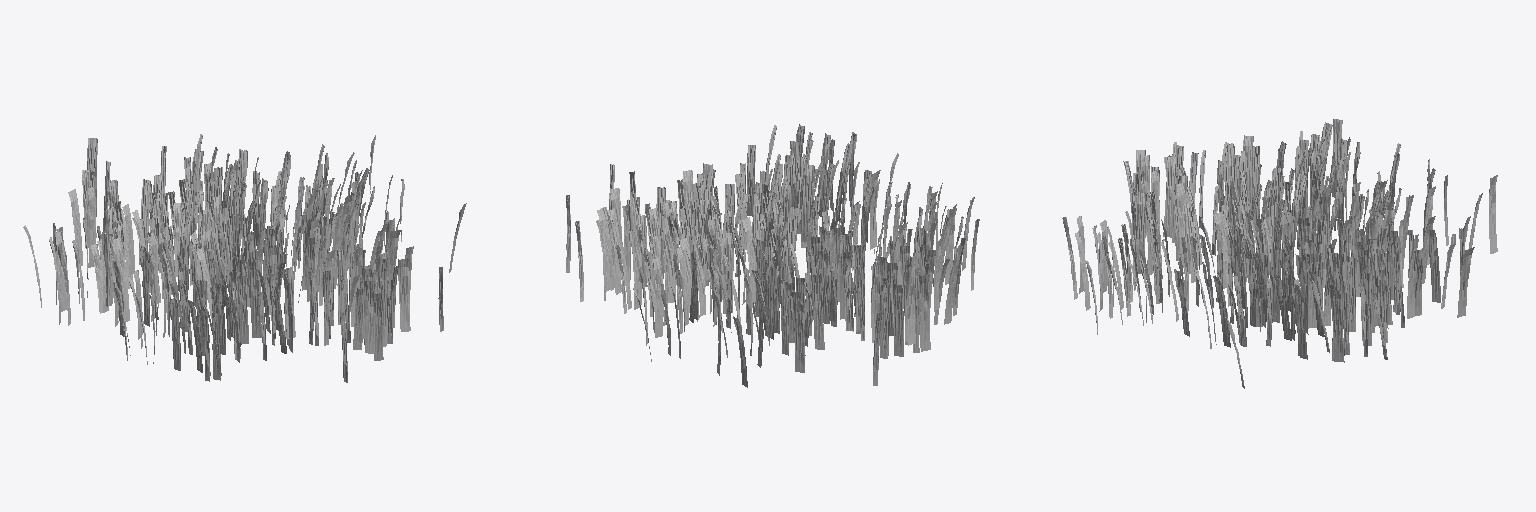
The model's file is uploads_files_2738257_grass.obj.
3 views of the same model, side by side, from view 1: azimuth 30°, elevation 25°; view 2: azimuth 150°, elevation 25°; view 3: azimuth 270°, elevation 25° (orthographic).
Parts seen in each view (by area): view 1: Layer_1.151, Layer_1.247, Layer_1.235, Layer_1.193, Layer_1.195, Layer_1.015, Layer_1.277; view 2: Layer_1.200, Layer_1.207, Layer_1.226, Layer_1.198, Layer_1.177, Layer_1.204, Layer_1.244, Layer_1.088, Layer_1.134, Layer_1.279, Layer_1.263; view 3: Layer_1.268, Layer_1.088, Layer_1.137, Layer_1.265, Layer_1.174, Layer_1.242, Layer_1.261, Layer_1.072, Layer_1.050.
Boxes of the visible parts, <box> form: Layer_1.151: <box>245,261,261,337</box>; Layer_1.247: <box>398,258,410,331</box>; Layer_1.235: <box>365,281,374,353</box>; Layer_1.193: <box>236,275,248,343</box>; Layer_1.195: <box>169,297,180,370</box>; Layer_1.015: <box>223,207,232,283</box>; Layer_1.277: <box>372,293,383,360</box>; Layer_1.200: <box>919,274,930,351</box>; Layer_1.207: <box>810,275,824,349</box>; Layer_1.226: <box>893,284,903,356</box>; Layer_1.198: <box>793,303,804,372</box>; Layer_1.177: <box>801,164,814,242</box>; Layer_1.204: <box>906,266,915,345</box>; Layer_1.244: <box>880,285,889,358</box>; Layer_1.088: <box>653,257,663,337</box>; Layer_1.134: <box>663,217,675,302</box>; Layer_1.279: <box>780,280,788,355</box>; Layer_1.263: <box>747,145,755,216</box>; Layer_1.268: <box>1330,291,1344,362</box>; Layer_1.088: <box>1426,229,1440,302</box>; Layer_1.137: <box>1163,157,1177,237</box>; Layer_1.265: <box>1347,256,1355,331</box>; Layer_1.174: <box>1407,239,1418,318</box>; Layer_1.242: <box>1489,175,1497,253</box>; Layer_1.261: <box>1293,287,1305,357</box>; Layer_1.072: <box>1136,192,1146,273</box>; Layer_1.050: <box>1270,249,1279,322</box>.
Size of the model in its own units: 5.28 by 1.45 by 5.41.